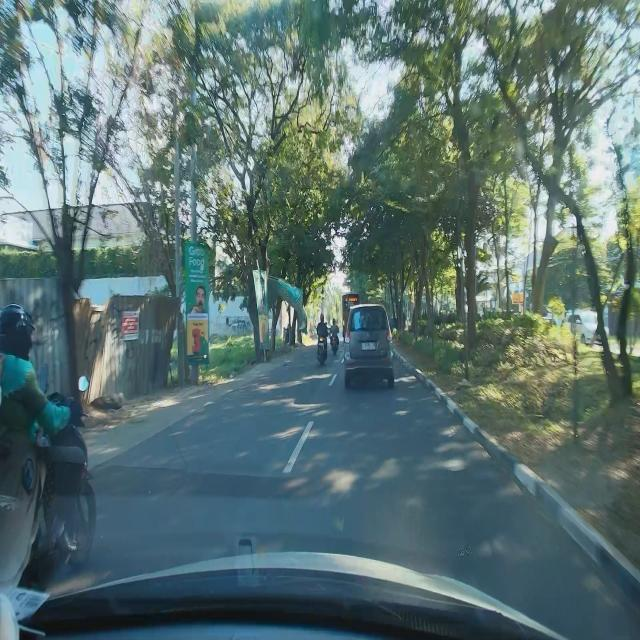car: (344, 302, 394, 390)
license-plate: (361, 342, 376, 351)
